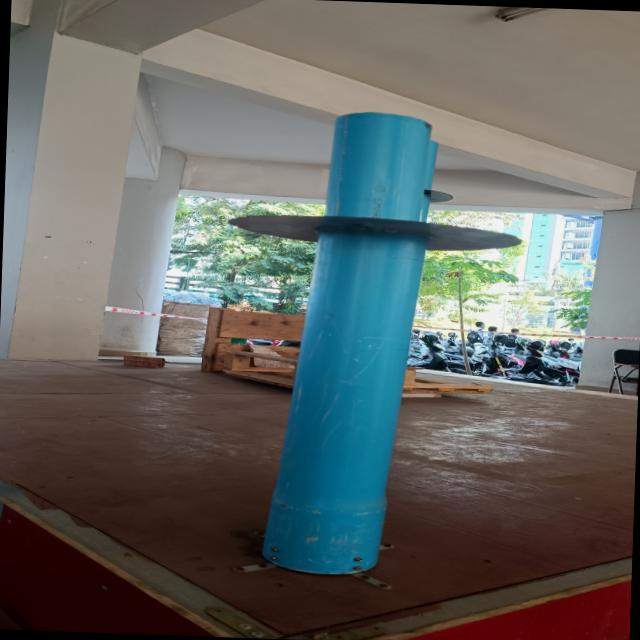pole: (197, 75, 552, 366)
